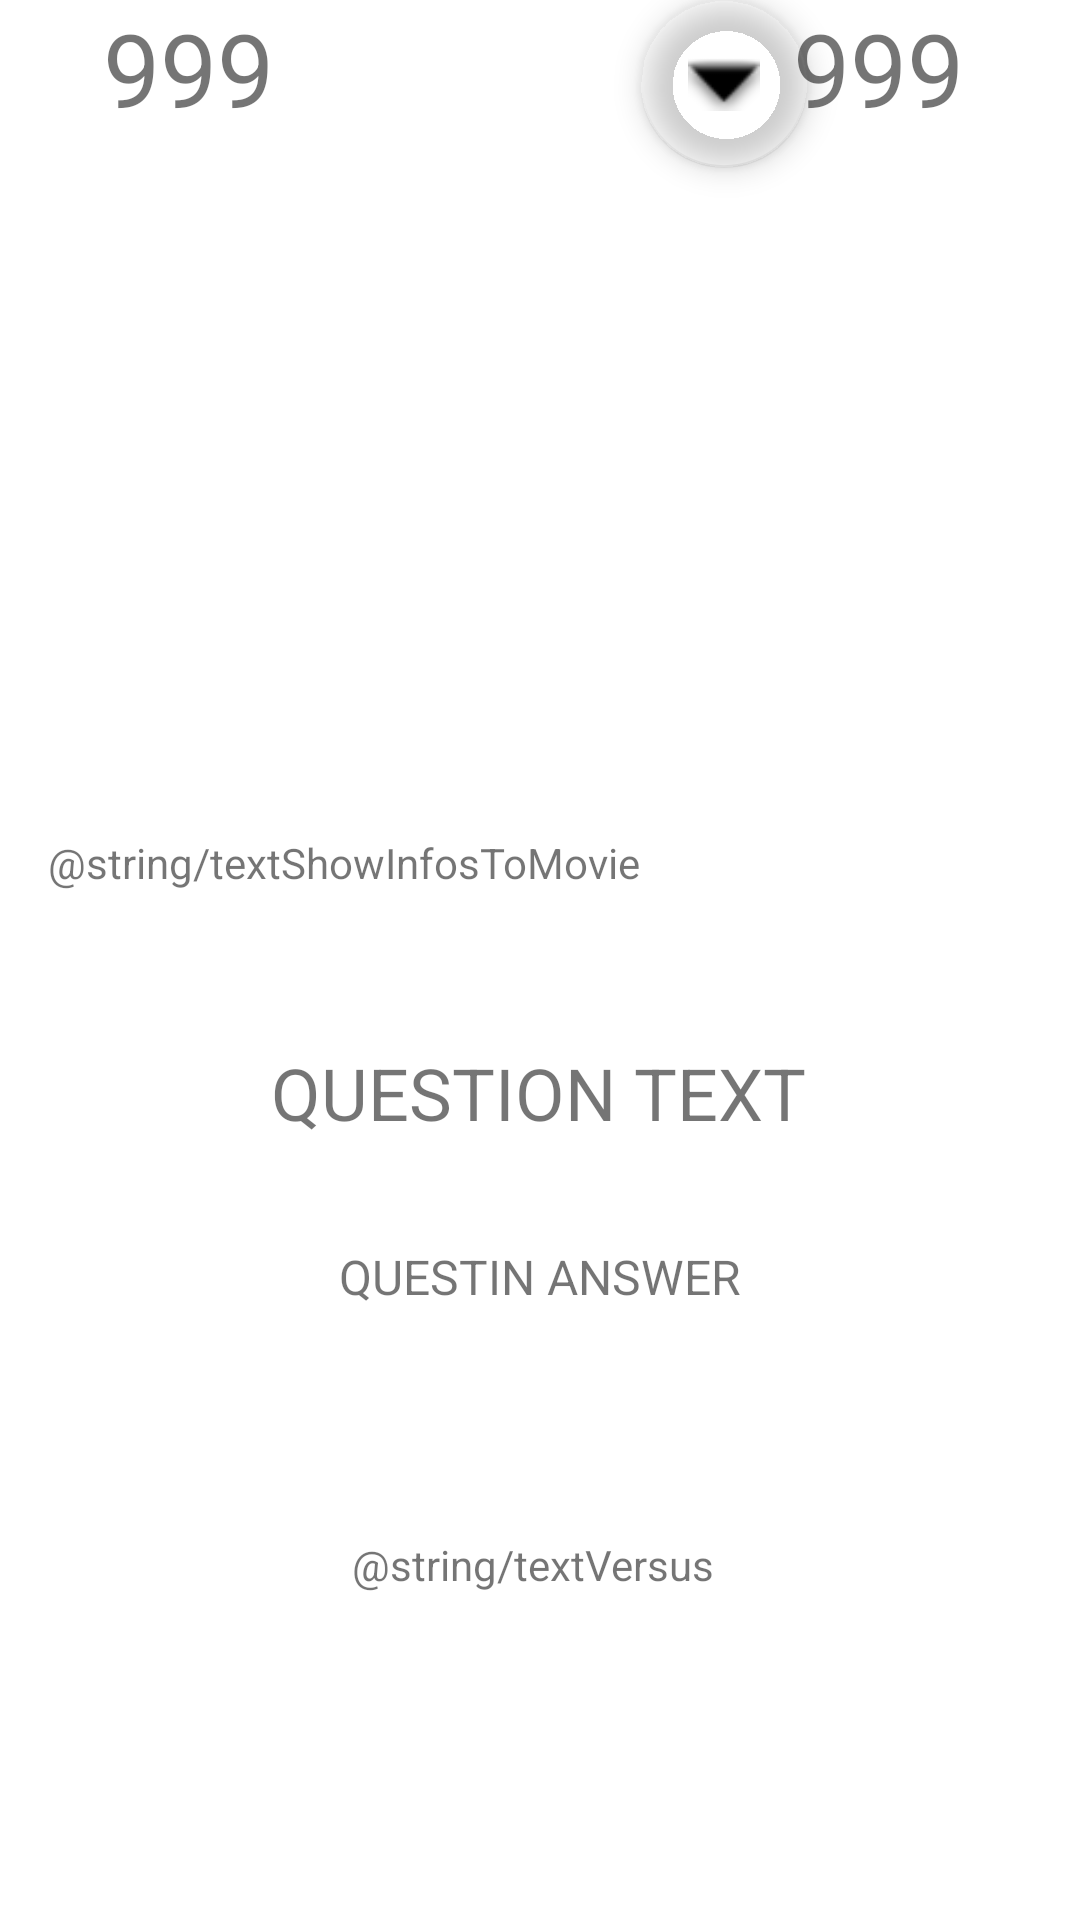

Where to tap for icons on this 1080px×1920px app screen, as point (x, y):
arrow down float: point (724, 88)
